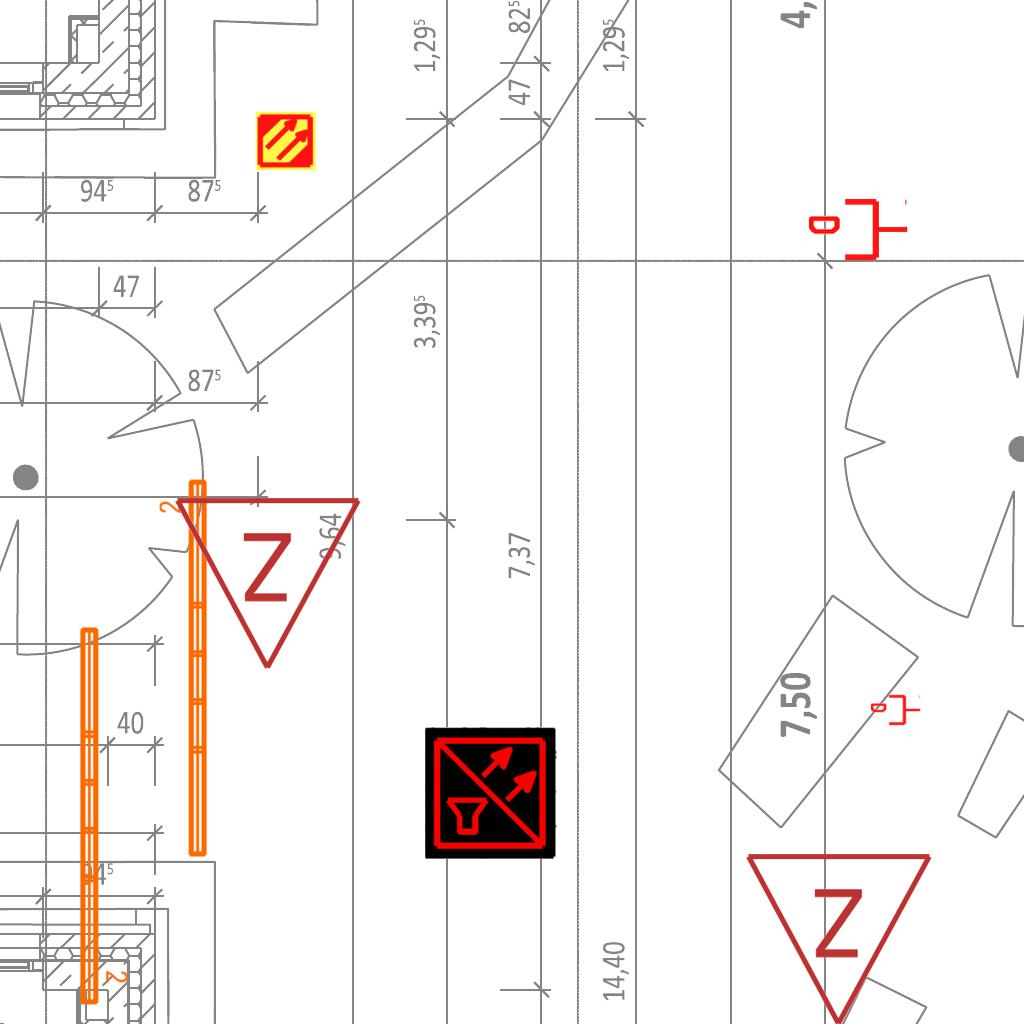ASR_Ansaugrauchmelder: (255, 110, 317, 172)
Ambulanz_Pendelleuchte_LED: (74, 622, 130, 1009), (157, 475, 213, 862)
Datenanschluss_einfach: (809, 195, 909, 264), (871, 693, 921, 727)
OKW_Multisensormelder_(Kombination_optischer_Rauch-Kahlenmonoxid_Waerme-Melder): (425, 727, 557, 859)
Zimmersignalleuchte: (172, 483, 368, 683), (743, 839, 939, 1024)
